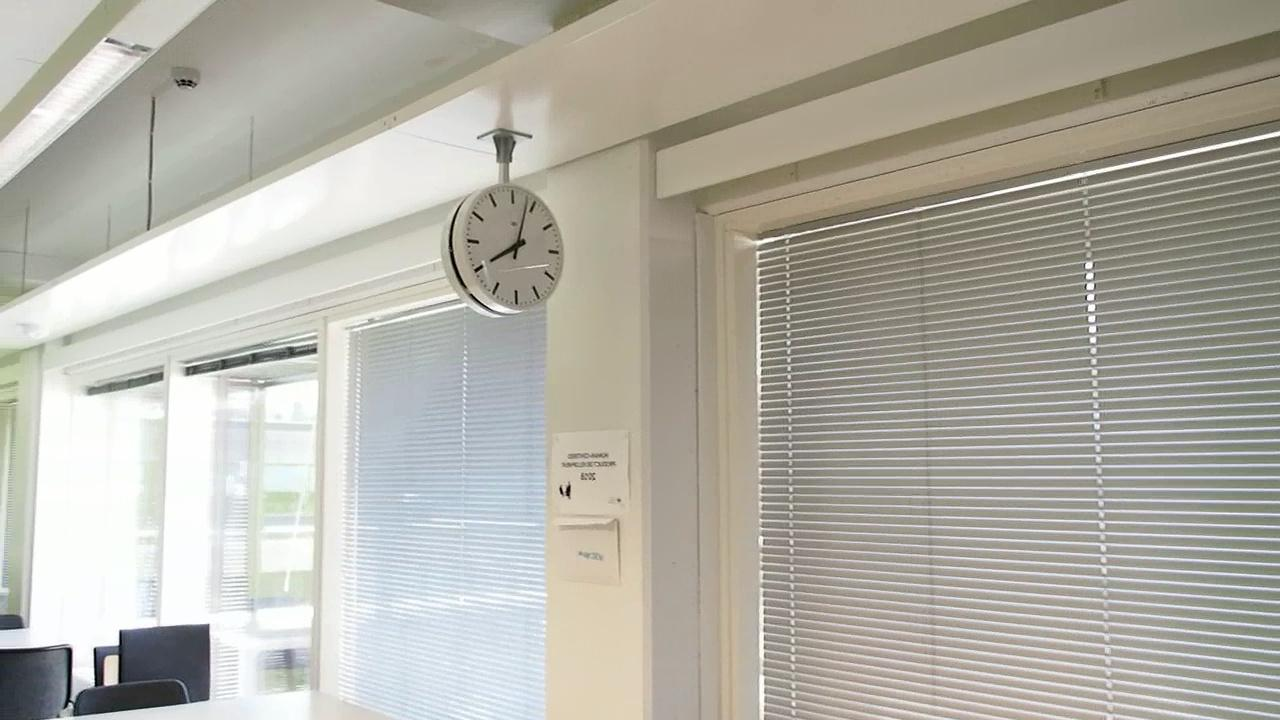clock: (450, 176, 566, 309)
